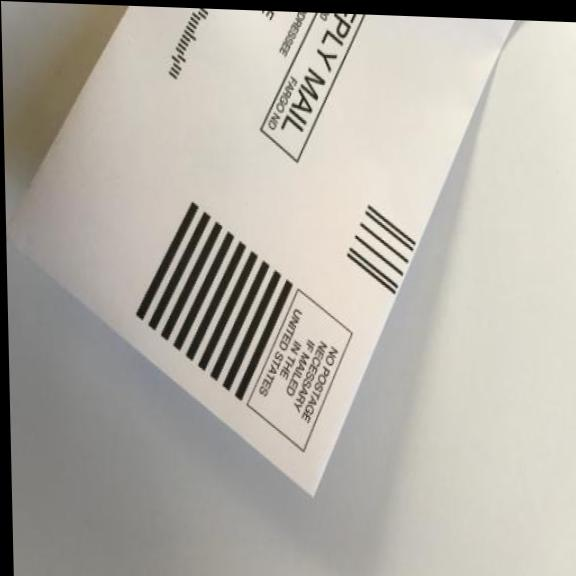Kertas: (0, 0, 514, 508)
